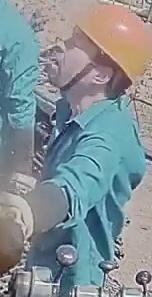gloves: (0, 190, 42, 276)
helmet: (72, 0, 151, 86)
vest: (24, 93, 146, 295)
